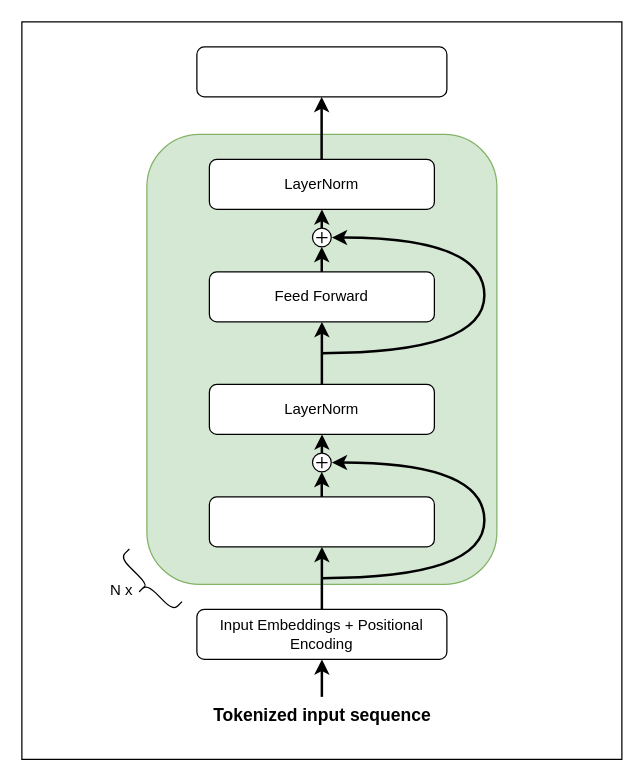
The diagram is 644 pixels wide and 781 high, and some of its shapes have lost their labels. The centre of each missing label's shape, as x and y in pixels:
Encoder output: point 321,71
Multi-Head Self Attention: point 321,521
